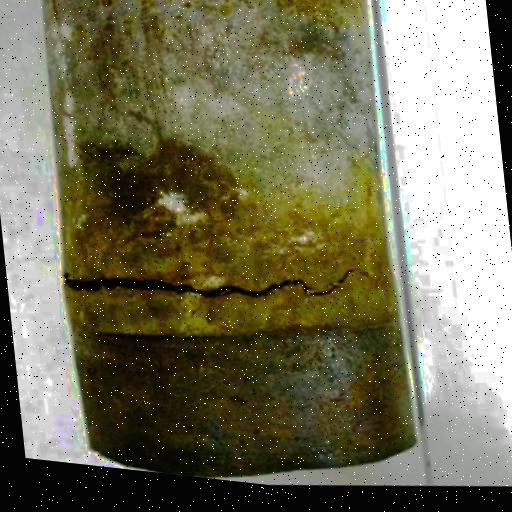crack: (61, 226, 380, 353)
